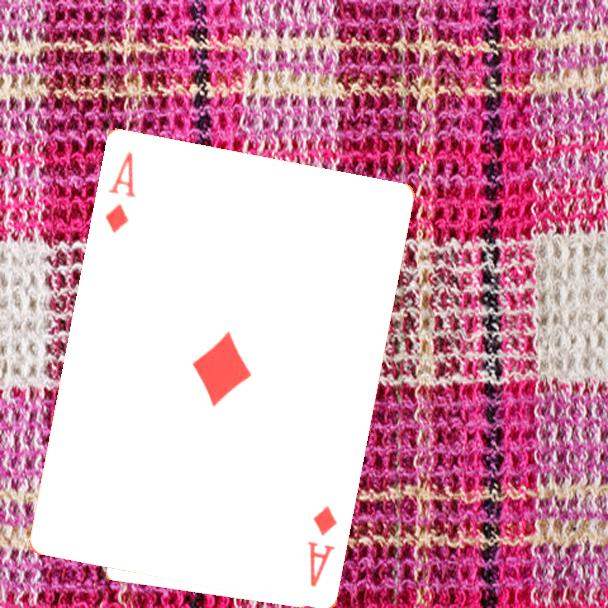d01: (304, 502, 341, 590), (102, 148, 139, 236)
